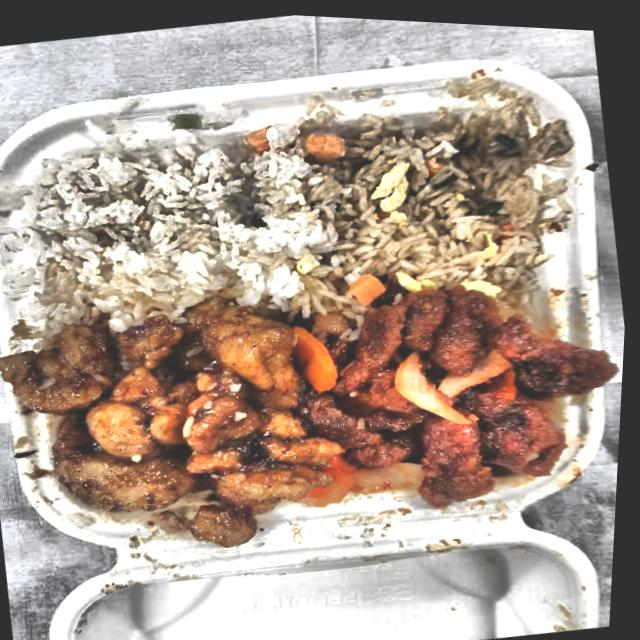Food: (0, 281, 336, 583), (296, 245, 631, 527), (269, 67, 577, 323), (10, 119, 309, 338)
